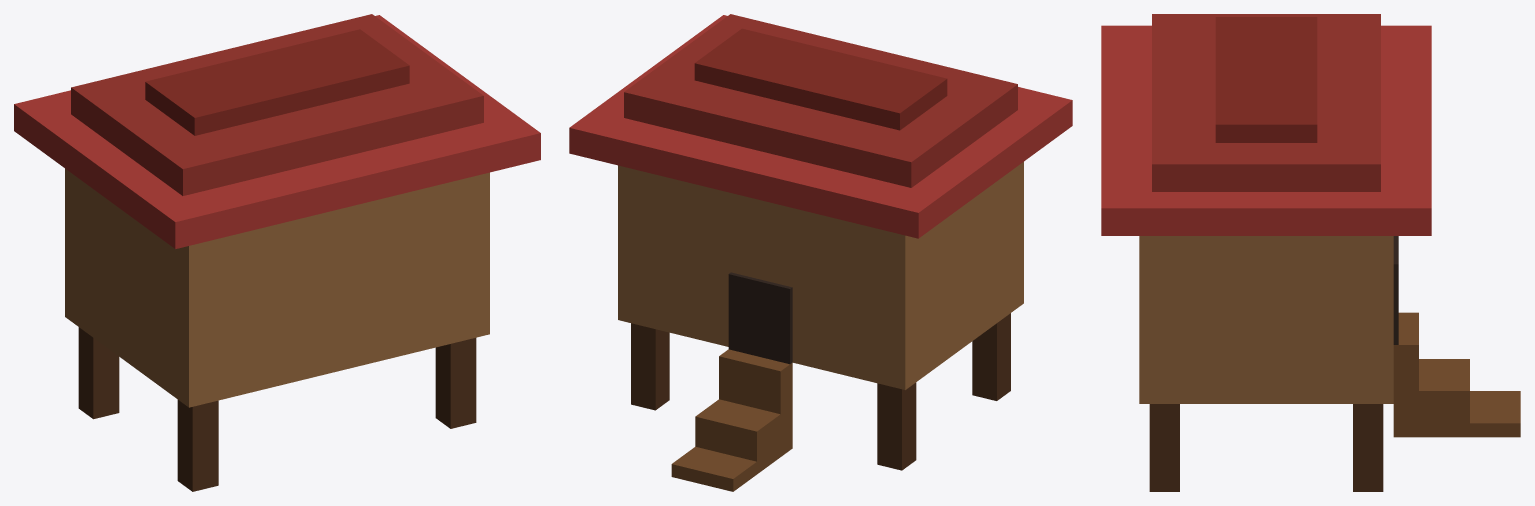
Rendered from xma-coop.glb.
3 renders of one model, left to right at view 1: azimuth 30°, elevation 25°; view 2: azimuth 150°, elevation 25°; view 3: azimuth 270°, elevation 25°, orthographic. The views are drawn at different scales.
Visible parts, largest first — view 1: box-prop; view 2: box-prop; view 3: box-prop.
Part boxes in pixels (<box>): box-prop: <box>14,14,540,491</box>; box-prop: <box>569,14,1072,491</box>; box-prop: <box>1101,14,1520,491</box>.
Size of the model in its own units: 1.7 by 1.52 by 1.65.
